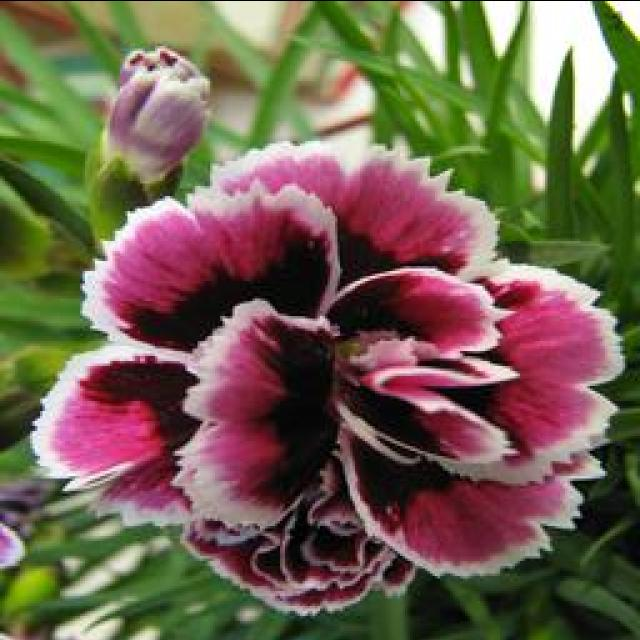carnation: (30, 120, 628, 609)
